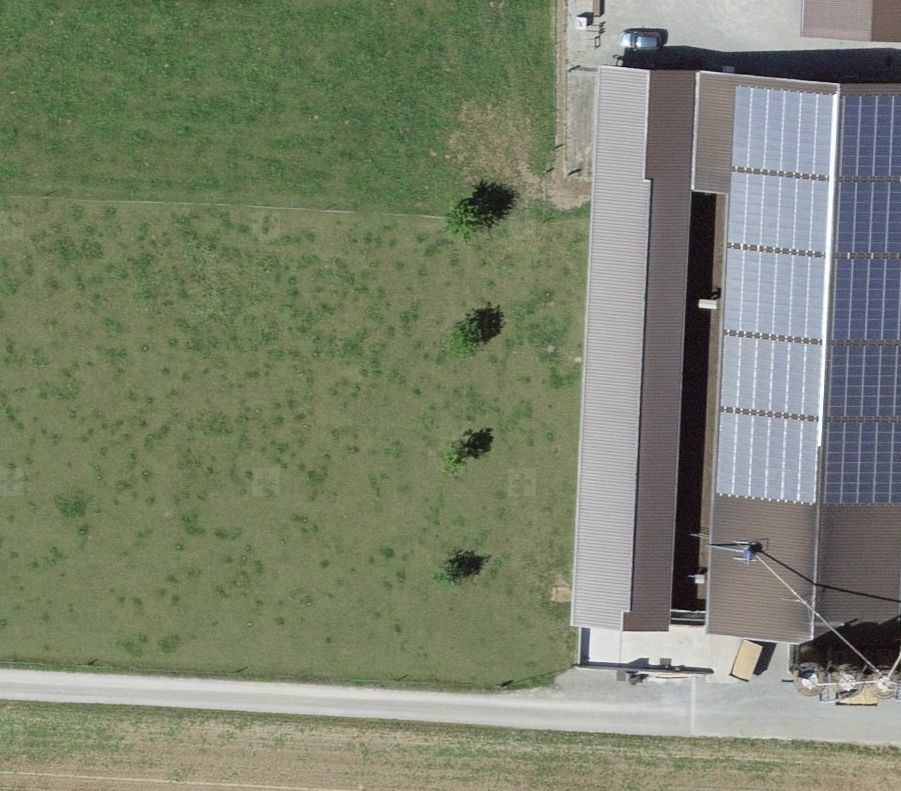solar: (716, 85, 901, 505)
